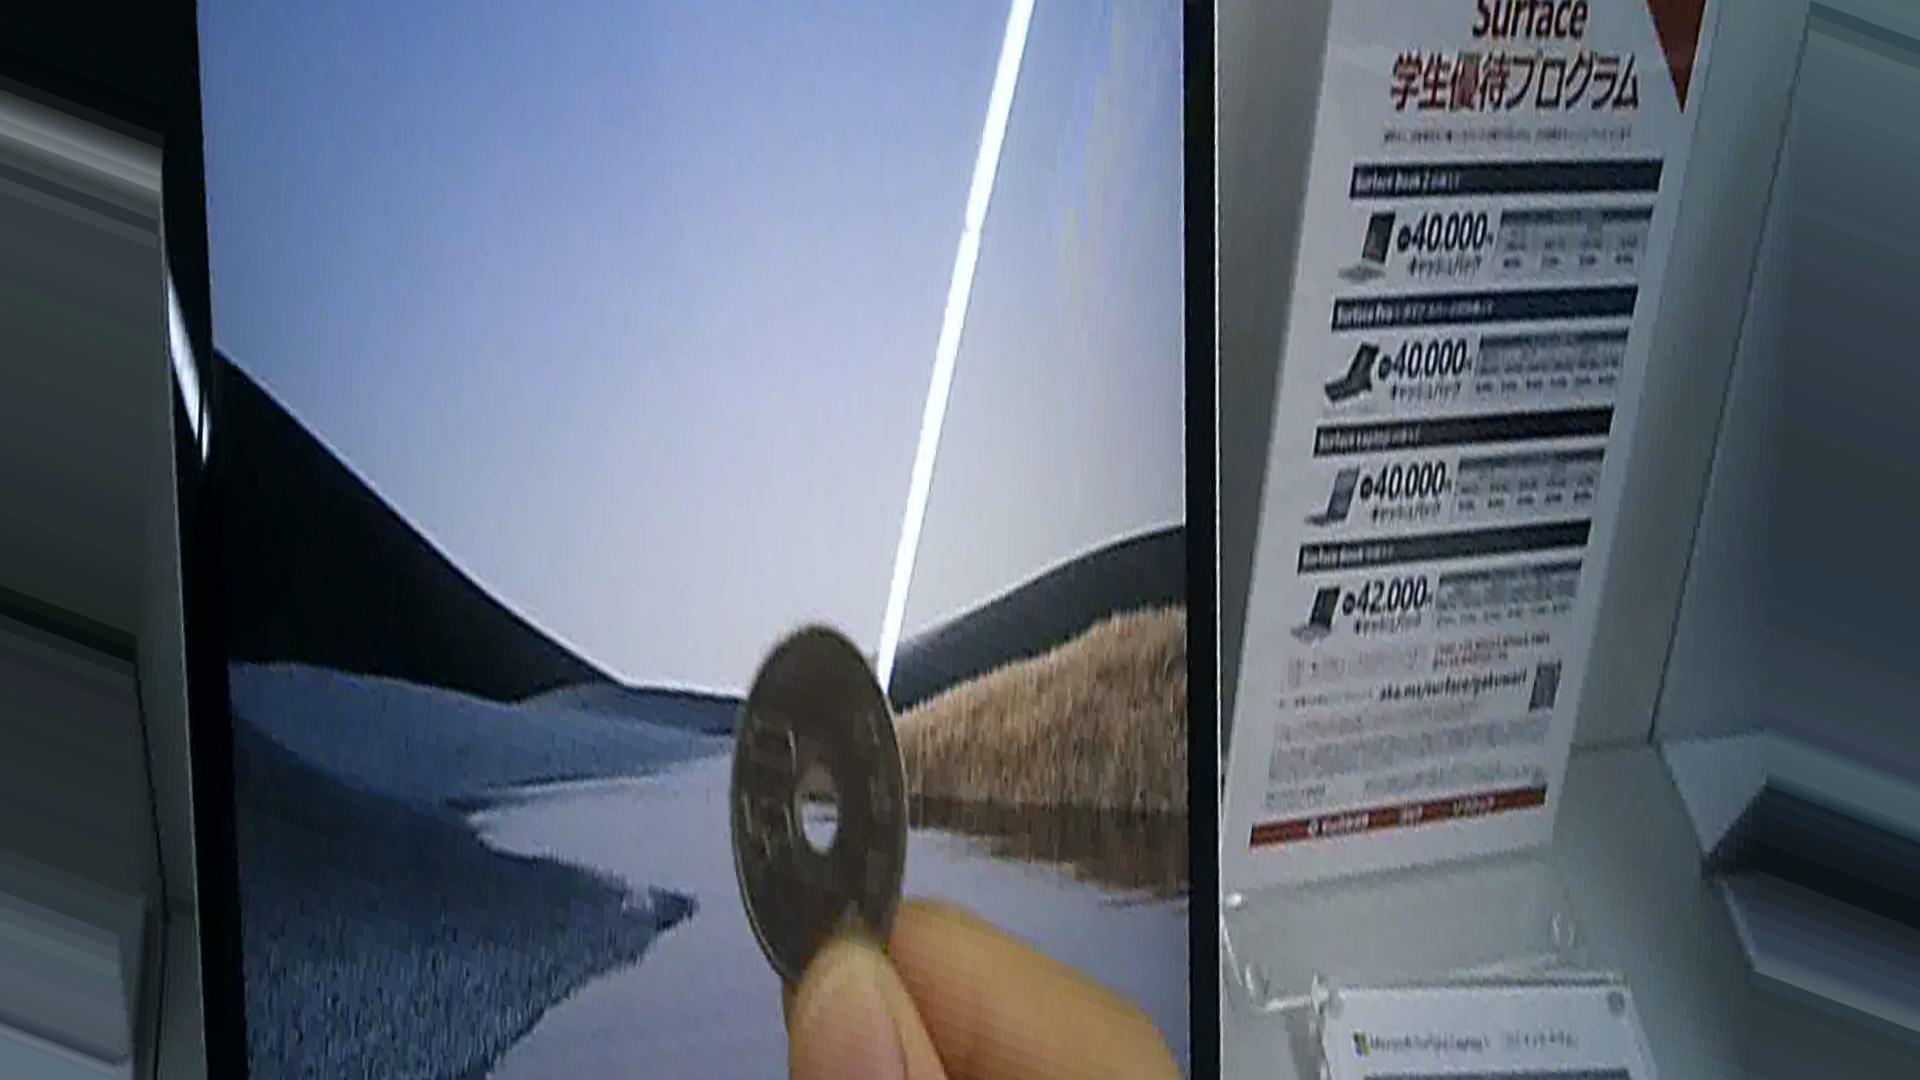50 Yen: (717, 636, 927, 1000)
